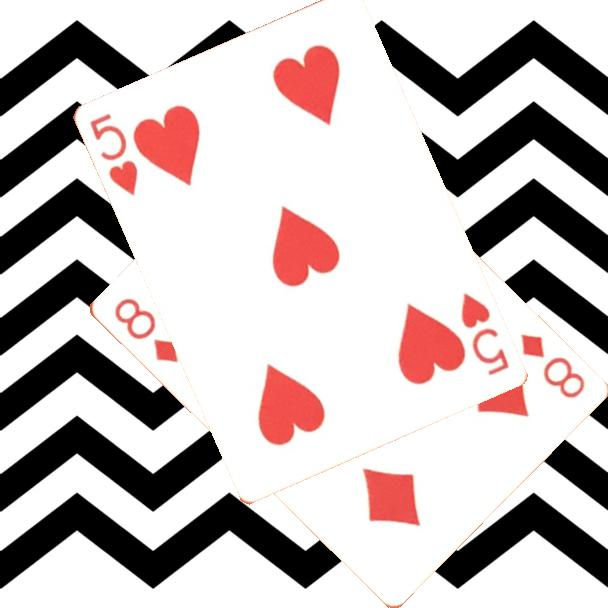d08: (516, 330, 588, 402), (110, 294, 181, 366)
h05: (86, 109, 142, 199), (458, 289, 513, 379)
